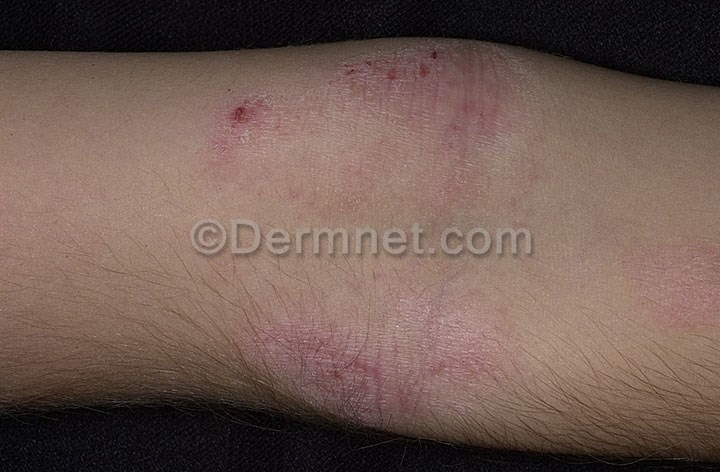Eczema: (176, 41, 596, 248), (201, 254, 552, 434), (620, 227, 720, 353)
